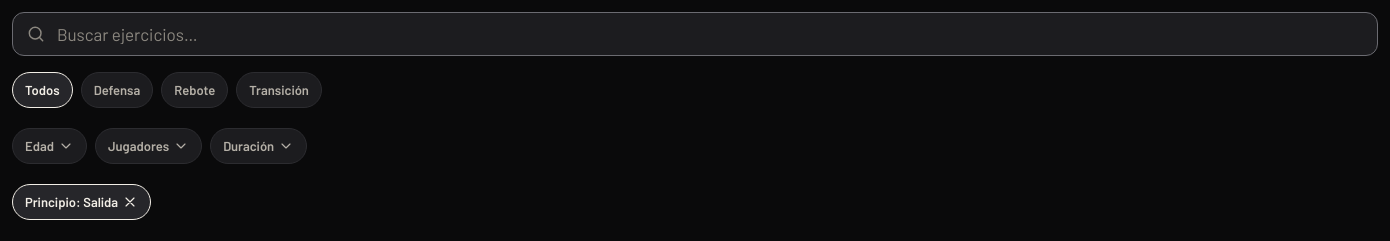
Test: mientras la URL cambia › la respuesta quita el chip del principio cuando ya no está en la URL
This screenshot has width=1390, height=241.
Click the button with aria-label "Quitar filtro de principio": (82, 202) [12, 180, 151, 224]
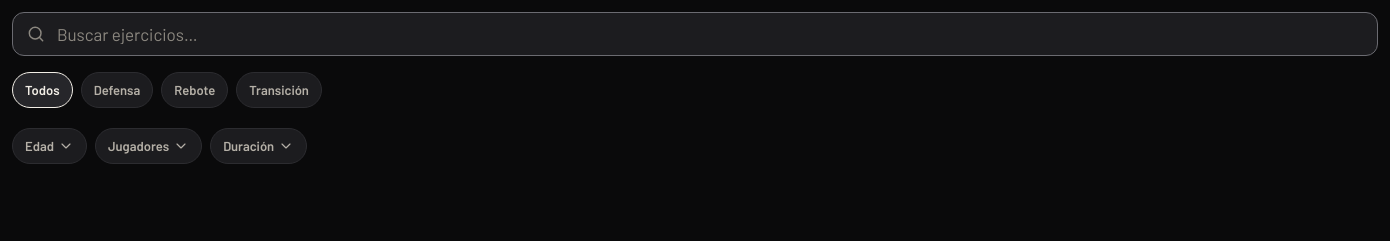
expect the button "Quitar filtro de principio" is gone: met
